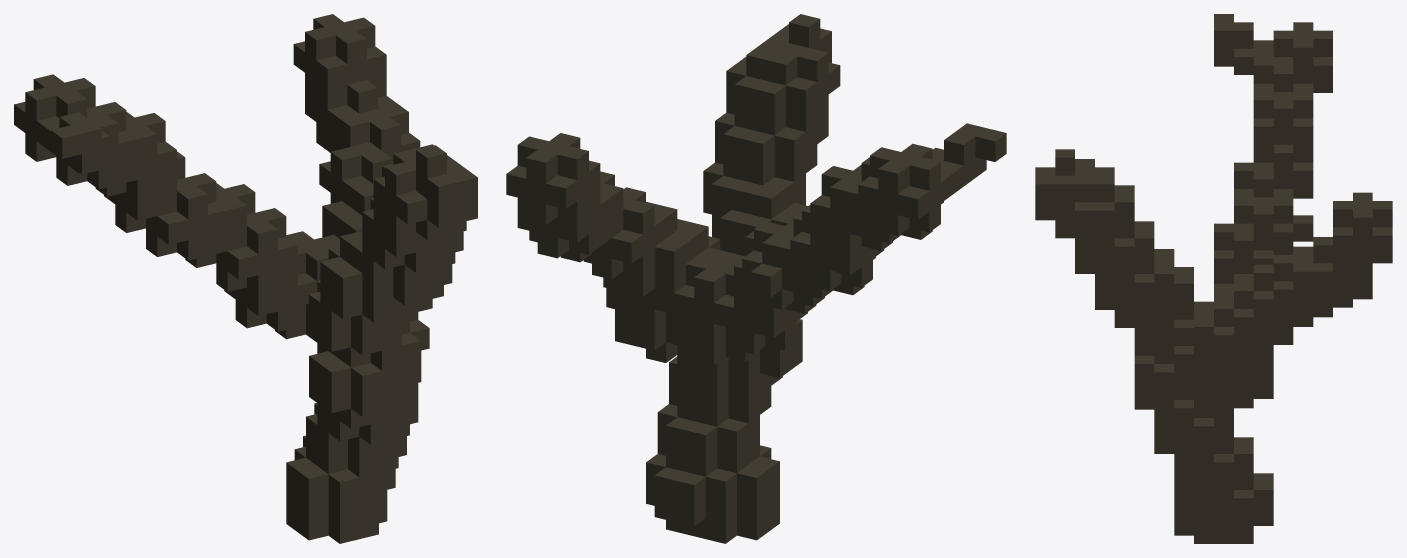
Rendered from Medieval Assets-35-Decoration - Swamp - Old Tree.obj.
3 views of the same model, side by side, from view 1: azimuth 30°, elevation 25°; view 2: azimuth 150°, elevation 25°; view 3: azimuth 270°, elevation 25° (orthographic). The views are drawn at different scales.
Parts seen in each view (by area): view 1: Decoration - Swamp - Old Tree; view 2: Decoration - Swamp - Old Tree; view 3: Decoration - Swamp - Old Tree.
Boxes of the visible parts, box(x1,y1,x2,y2) form: Decoration - Swamp - Old Tree: box(14, 14, 477, 543); Decoration - Swamp - Old Tree: box(506, 14, 1006, 543); Decoration - Swamp - Old Tree: box(1035, 14, 1392, 543).
Bounding box in the file's own units: 2 × 2.2 × 1.8.
1 material, 1 textured.
